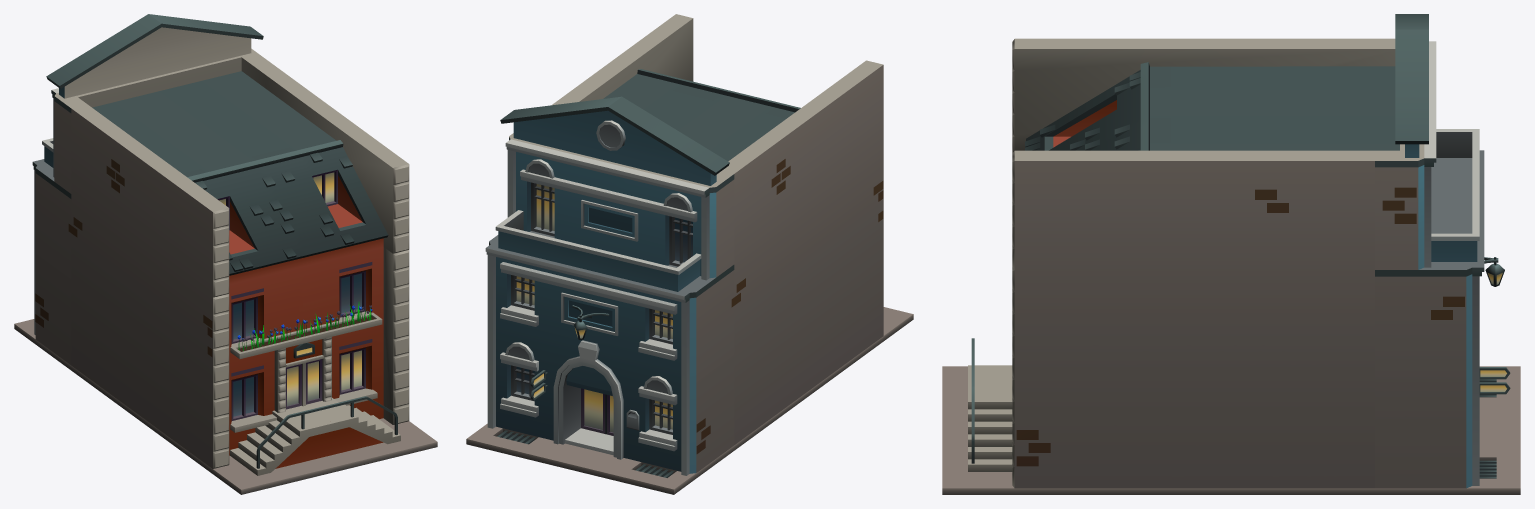
The model's file is Brownstone_3A.fbx.
3 renders of one model, left to right at view 1: azimuth 30°, elevation 25°; view 2: azimuth 150°, elevation 25°; view 3: azimuth 270°, elevation 25°, orthographic. The views are drawn at different scales.
Visible parts, largest first — view 1: Brownstone_3A, Brownstone_3A_Window_Lights; view 2: Brownstone_3A, Brownstone_3A_Window_Lights; view 3: Brownstone_3A.
Part boxes in pixels (x1,y1,x2,y2): Brownstone_3A: (14, 14, 437, 494); Brownstone_3A_Window_Lights: (219, 172, 361, 405); Brownstone_3A: (466, 14, 913, 494); Brownstone_3A_Window_Lights: (516, 184, 672, 432); Brownstone_3A: (942, 14, 1520, 494).
Size of the model in its own units: 1248 by 1851 by 2400.
